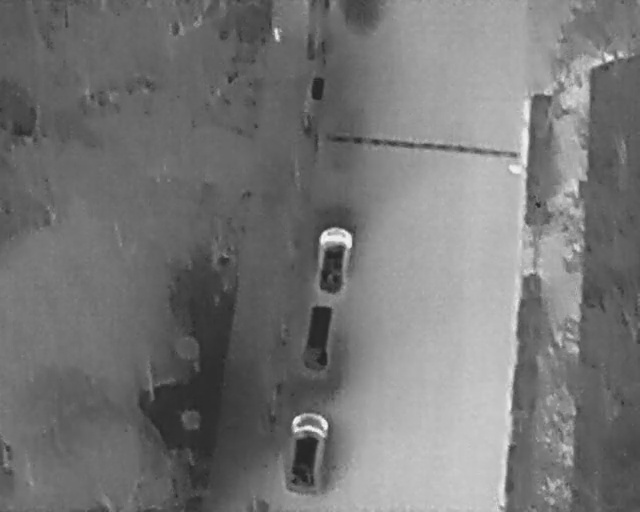Car: (281, 409, 330, 497), (314, 224, 354, 297), (301, 302, 338, 374)
Person: (271, 26, 283, 44)
